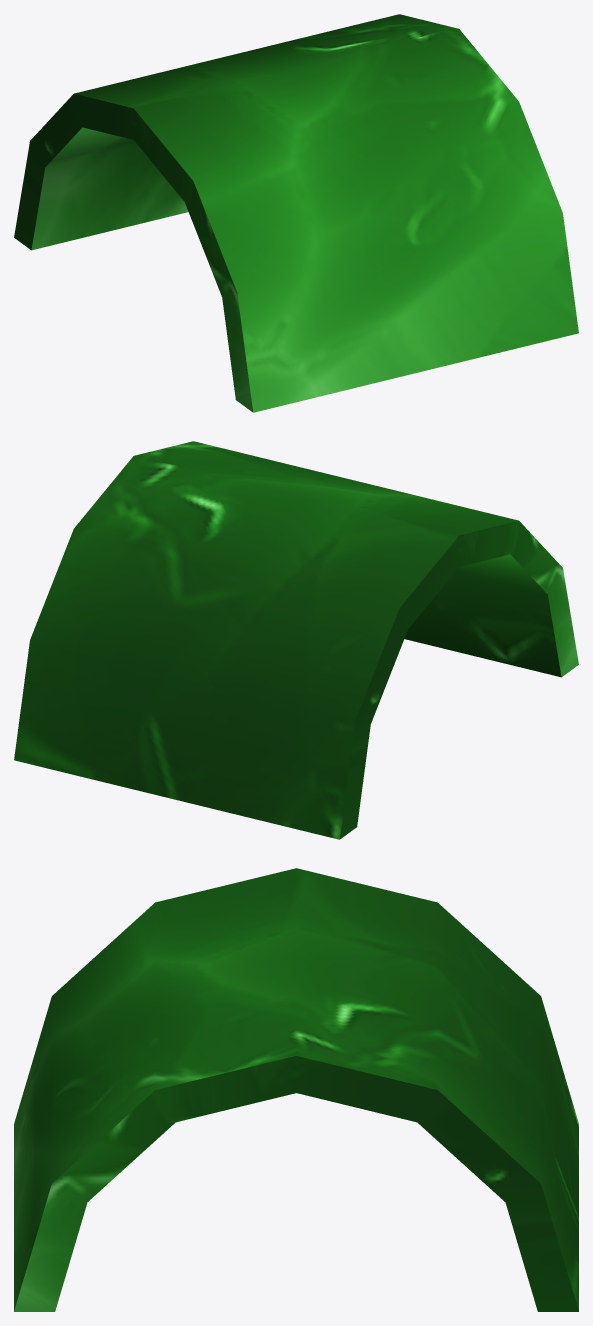
File: cover.fbx
The picture shows the model from 3 angles, top to bottom: view 1: azimuth 30°, elevation 25°; view 2: azimuth 150°, elevation 25°; view 3: azimuth 270°, elevation 25°; orthographic projection. The views are drawn at different scales.
Parts seen in each view (by area): view 1: polySurface27; view 2: polySurface27; view 3: polySurface27.
Part boxes in pixels (bbox=[...]): polySurface27: bbox=[14, 14, 578, 412]; polySurface27: bbox=[14, 441, 578, 839]; polySurface27: bbox=[14, 868, 578, 1311].
Bounding box in the file's own units: 3.05 × 1.94 × 3.88.
